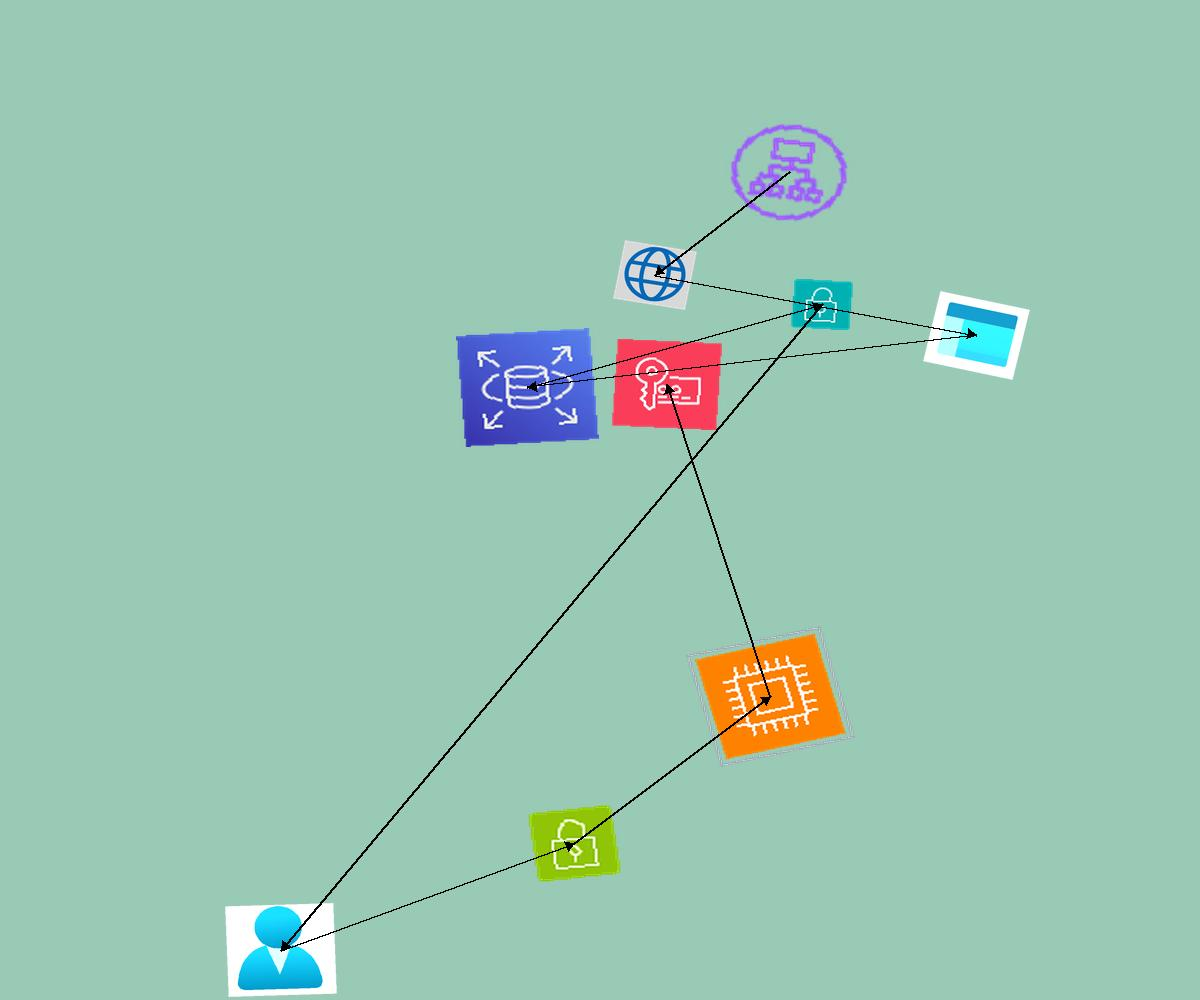AWS-Category_Compute: (686, 626, 855, 767)
AWS-Key-Management-Service: (611, 338, 723, 431)
AWS-Private-subnet: (790, 278, 854, 331)
AWS-Public-subnet: (527, 804, 622, 883)
AWS-RDS: (456, 328, 599, 447)
AWS-Res_Elastic-Load-Balancing_Application-Load-Balancer: (716, 112, 862, 233)
Azure_http: (613, 240, 697, 310)
Azure_management-portal: (923, 291, 1030, 380)
Azure_users: (225, 903, 337, 997)
